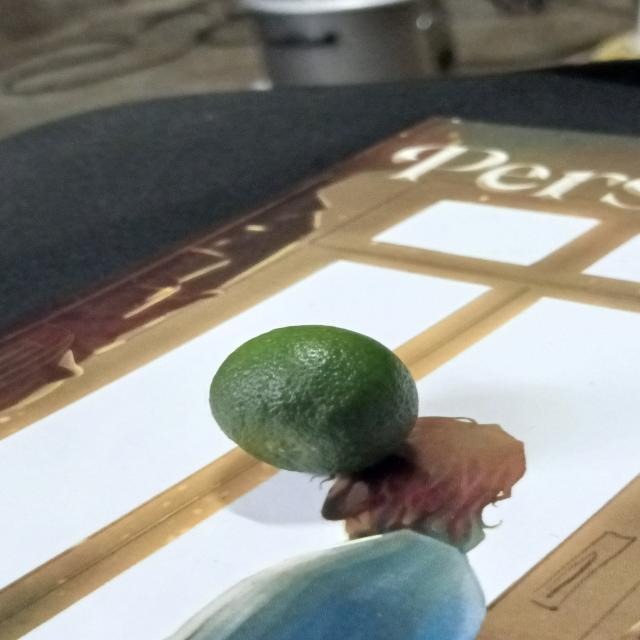heathy: (206, 322, 425, 478)
